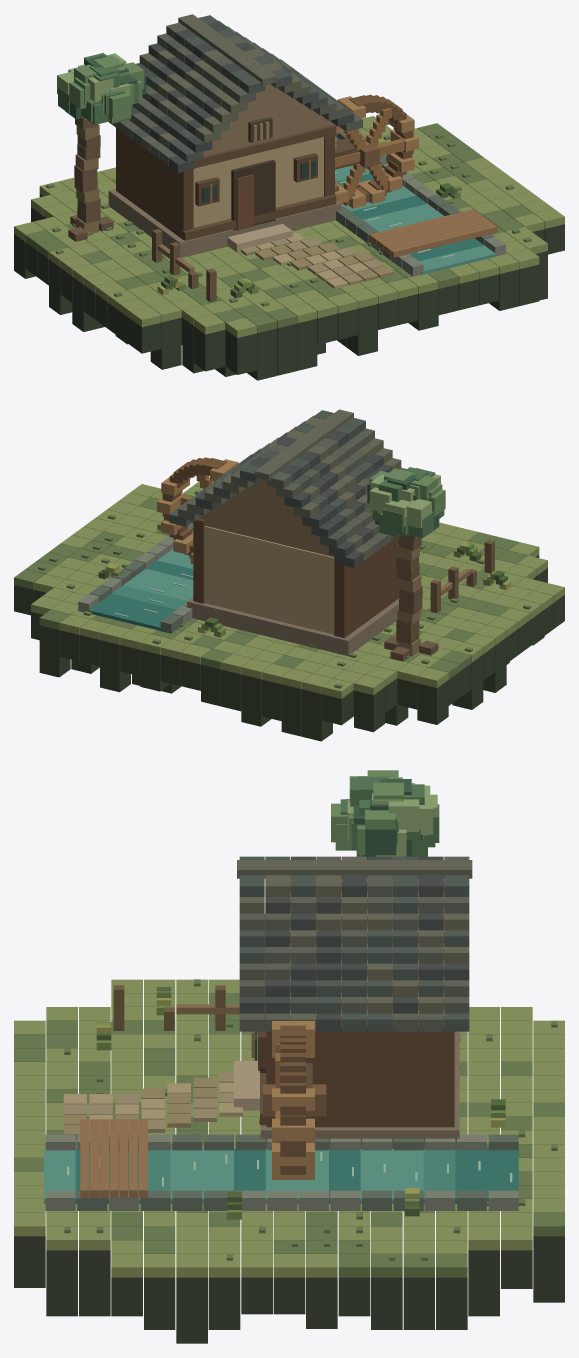
Rendered from preview-mill.glb.
The picture shows the model from 3 angles, top to bottom: view 1: azimuth 30°, elevation 25°; view 2: azimuth 150°, elevation 25°; view 3: azimuth 270°, elevation 25°; orthographic projection. The views are drawn at different scales.
Parts seen in each view (by area): view 1: Terrain, Floating_Bedrock, Mill_Slate_Roof, Mill_Timber, Layered_Canopy, Mill_Plaster, Mill_Stream, Mill_Stone_Footing, Mill_Path, Mill_Waterwheel, Mill_Gable, Mill_Footbridge (+10 smaller); view 2: Terrain, Floating_Bedrock, Mill_Slate_Roof, Mill_Plaster, Mill_Timber, Layered_Canopy, Mill_Stream, Mill_Gable, Mill_Stone_Footing, Tree_Trunks, Mill_Canal_Walls, Mill_Waterwheel (+5 smaller); view 3: Terrain, Mill_Slate_Roof, Floating_Bedrock, Mill_Stream, Mill_Timber, Mill_Canal_Walls, Layered_Canopy, Mill_Path, Mill_Footbridge, Mill_Waterwheel, Mill_Stone_Footing, Mill_Paddles (+4 smaller).
Boxes of the visible parts, x1,y1,x2,y2 form: Terrain: (14, 116, 564, 337); Floating_Bedrock: (14, 194, 564, 380); Mill_Slate_Roof: (108, 14, 362, 172); Mill_Timber: (116, 124, 336, 240); Layered_Canopy: (57, 53, 146, 124); Mill_Plaster: (193, 137, 323, 227); Mill_Stream: (335, 136, 496, 274); Mill_Stone_Footing: (108, 189, 341, 257); Mill_Path: (241, 232, 393, 288); Mill_Waterwheel: (335, 94, 413, 205); Mill_Gable: (203, 84, 338, 156); Mill_Footbridge: (369, 209, 497, 257); Terrain: (14, 481, 564, 698); Floating_Bedrock: (14, 554, 564, 741); Mill_Slate_Roof: (169, 409, 406, 567); Mill_Plaster: (204, 526, 334, 634); Mill_Timber: (193, 518, 399, 638); Layered_Canopy: (367, 467, 445, 538); Mill_Stream: (88, 549, 193, 631); Mill_Gable: (191, 479, 334, 556); Mill_Stone_Footing: (187, 597, 399, 655); Tree_Trunks: (396, 534, 422, 656); Mill_Canal_Walls: (78, 523, 193, 633); Mill_Waterwheel: (162, 457, 226, 558); Terrain: (14, 979, 564, 1277); Mill_Slate_Roof: (237, 856, 472, 1031); Floating_Bedrock: (14, 1236, 564, 1343); Mill_Stream: (44, 1149, 518, 1203); Mill_Timber: (260, 914, 454, 1127); Mill_Canal_Walls: (45, 1134, 518, 1210); Layered_Canopy: (331, 770, 439, 859); Mill_Path: (63, 1072, 242, 1138); Mill_Footbridge: (80, 1119, 147, 1197); Mill_Waterwheel: (263, 1025, 326, 1174); Mill_Stone_Footing: (234, 1031, 459, 1148); Mill_Paddles: (272, 1021, 314, 1179).
Bounding box in the file's own units: 8.39 × 4.25 × 6.79.
